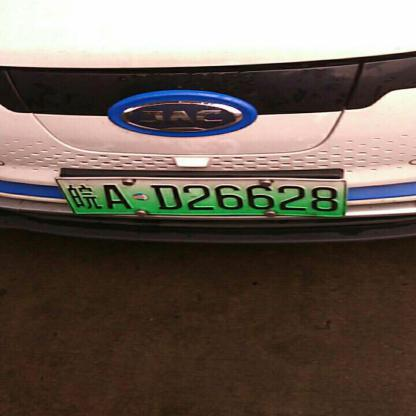lp: (56, 177, 77, 215)
